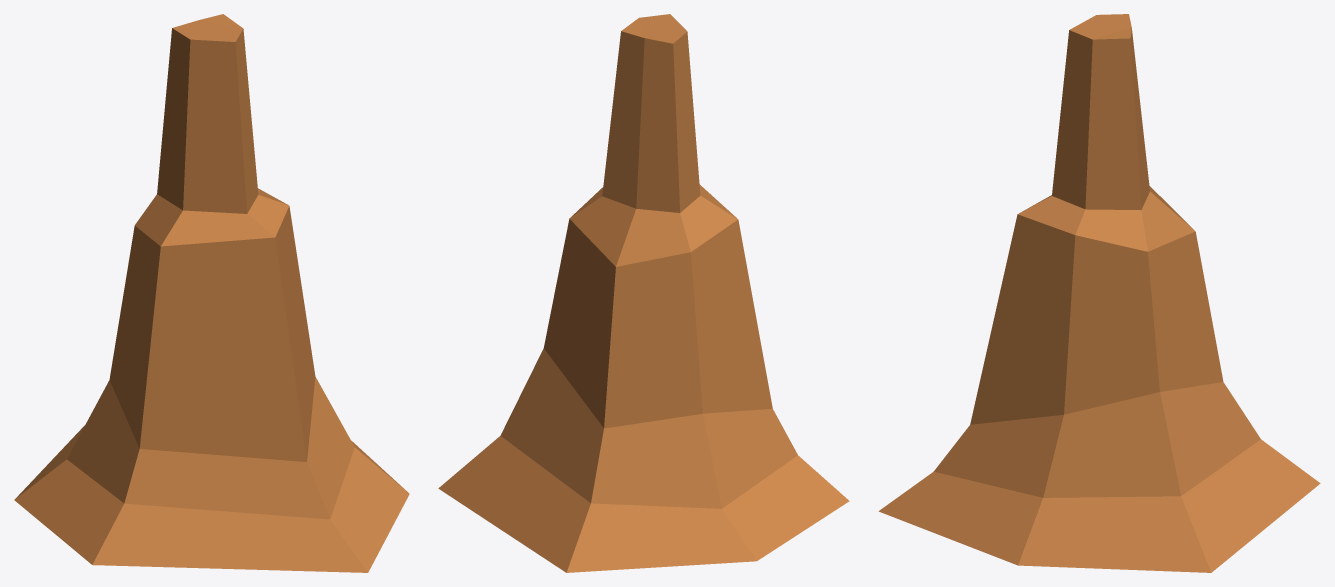
Rendered from ErectRock_middle.fbx.
The picture shows the model from 3 angles, left to right: view 1: azimuth 30°, elevation 25°; view 2: azimuth 150°, elevation 25°; view 3: azimuth 270°, elevation 25°; orthographic projection.
Parts seen in each view (by area): view 1: 平面.011; view 2: 平面.011; view 3: 平面.011.
Boxes of the visible parts, x1,y1,x2,y2 form: 平面.011: (14,14,409,572); 平面.011: (438,14,849,572); 平面.011: (878,14,1320,572).
Size of the model in its own units: 138 by 164 by 190.
